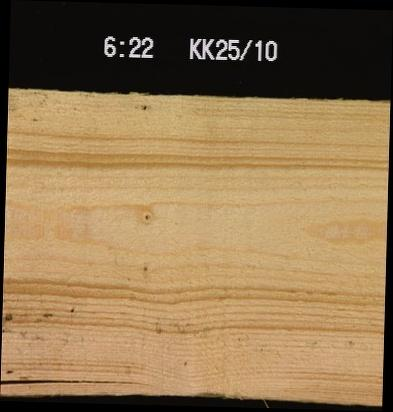small_knot: (139, 206, 154, 226), (137, 98, 150, 114), (138, 261, 150, 273)
split: (0, 372, 154, 389)
wave: (191, 385, 252, 399)
